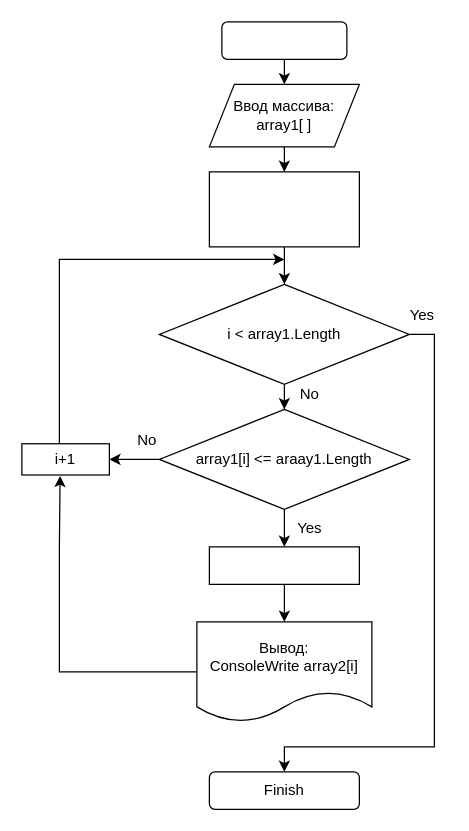
Image size: 469x831. Some labels were removed from this diagram. The shapes that lost their labels are listed below. From the top down, each one's box as (x1, y1, x2, y2) in pixels, then its label:
(221, 21, 347, 59): Start
(208, 171, 359, 247): создание массива array2[ ]
(208, 546, 359, 584): array2[i] = array1[i]
